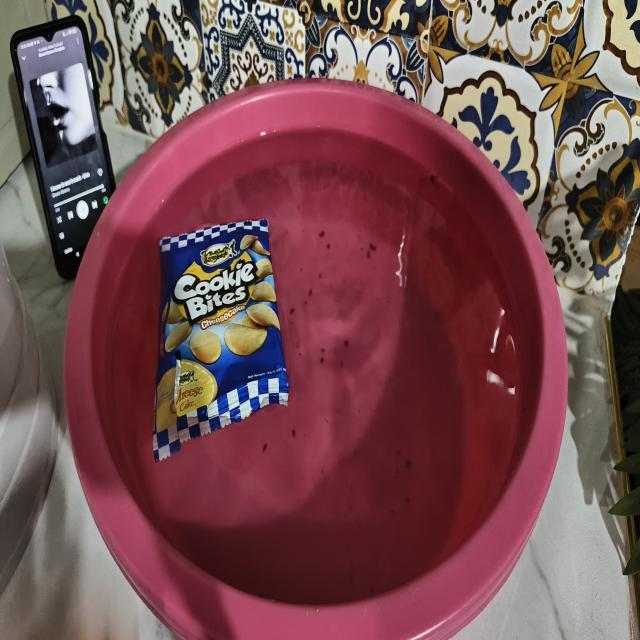Plastic Wrapper: (153, 219, 289, 461)
